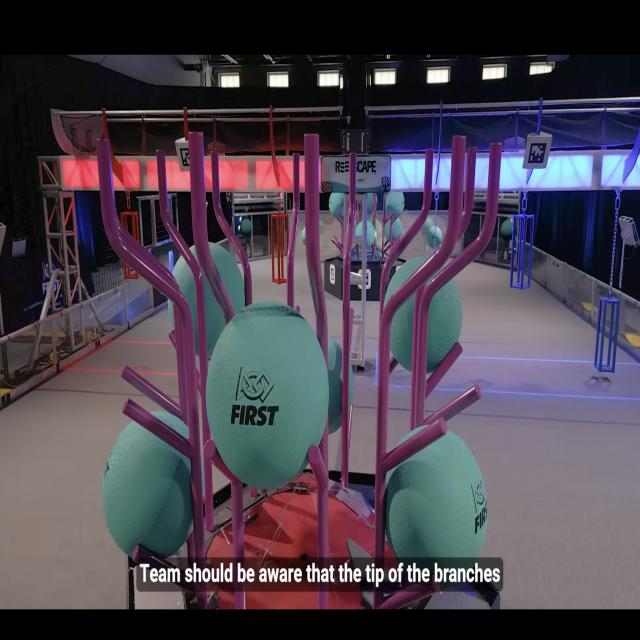algae: (204, 296, 336, 498), (381, 418, 497, 562), (97, 406, 204, 562), (384, 254, 467, 376), (170, 240, 250, 365), (319, 330, 356, 431), (351, 218, 378, 252), (325, 185, 349, 222), (383, 183, 408, 218), (380, 213, 406, 243), (361, 185, 380, 216), (426, 225, 445, 251)
